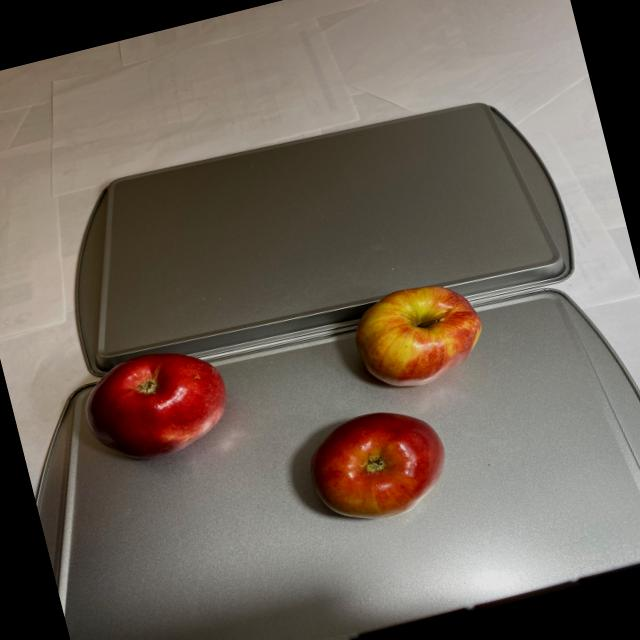apple: (268, 271, 524, 534), (72, 336, 244, 473)
